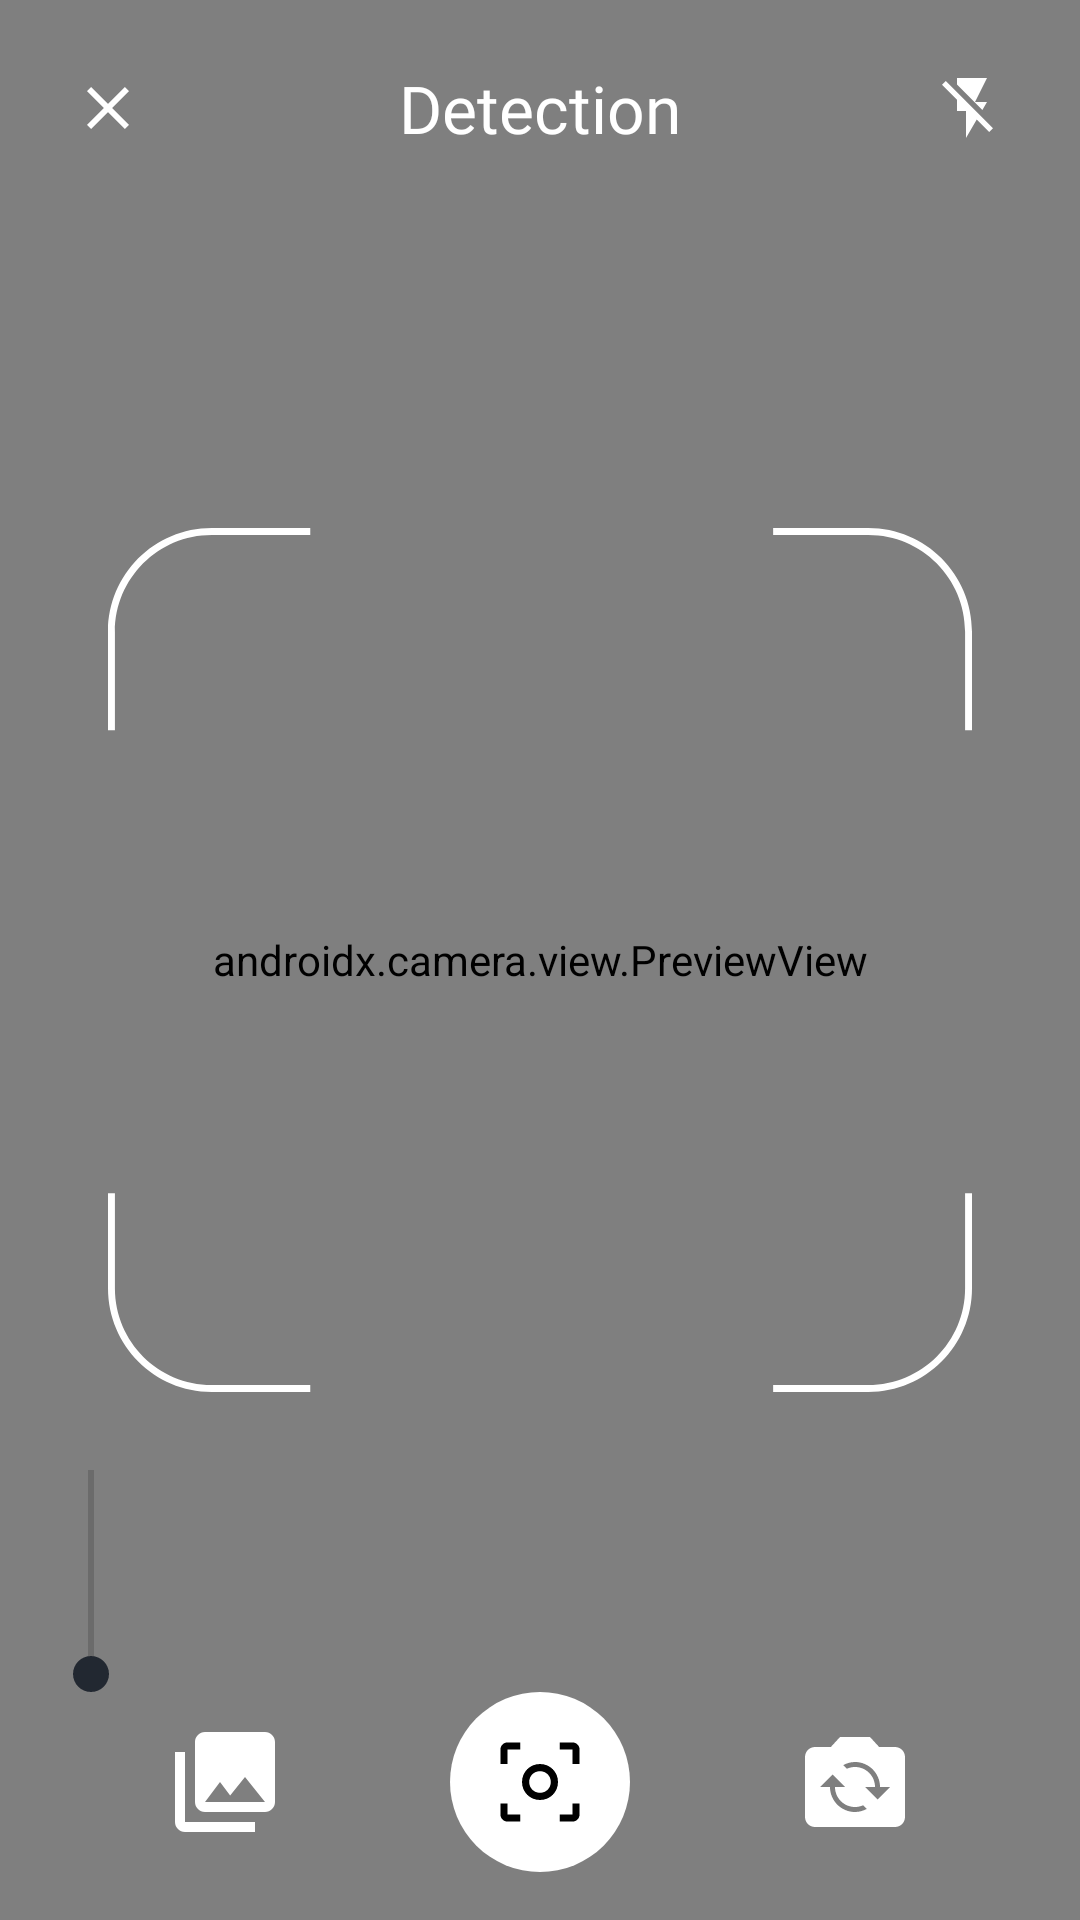

Screen size 1080x1920. Icon name, then its center in pixels as point (x, y):
Close: point (108, 108)
flash: point (967, 108)
Open gallery: point (225, 1782)
Switch camera: point (855, 1782)
Take Photo: point (540, 1782)
